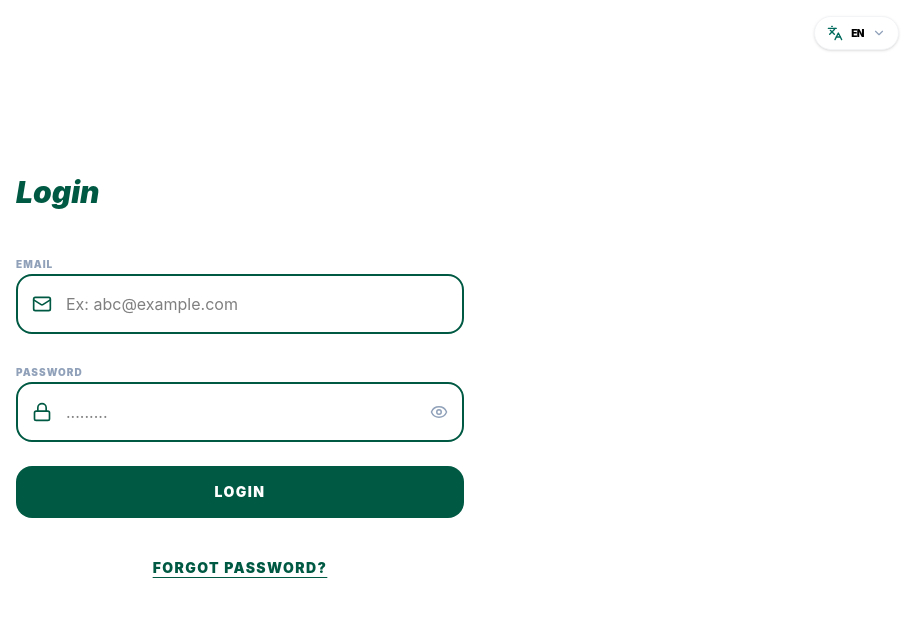
Test case: Login component › shows error message if login fails
This screenshot has width=916, height=630.
Step 1. Type "wrong@example.com" into the field with placeholder "Ex: abc@example.com" → (240, 304), box [16,274,464,334]
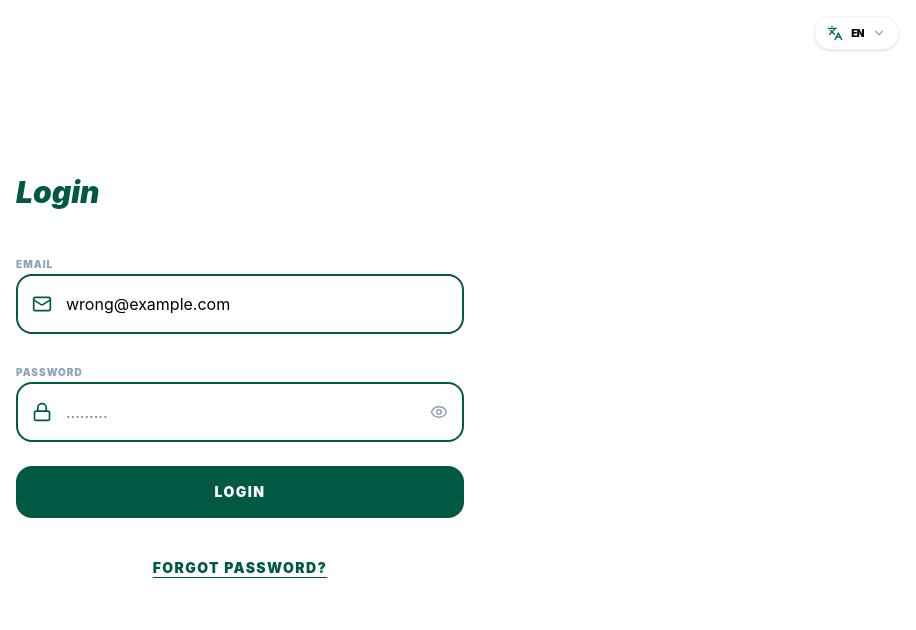
Step 2. Type "wrongpass" into the password field with placeholder "........." → (240, 412), box [16,382,464,442]
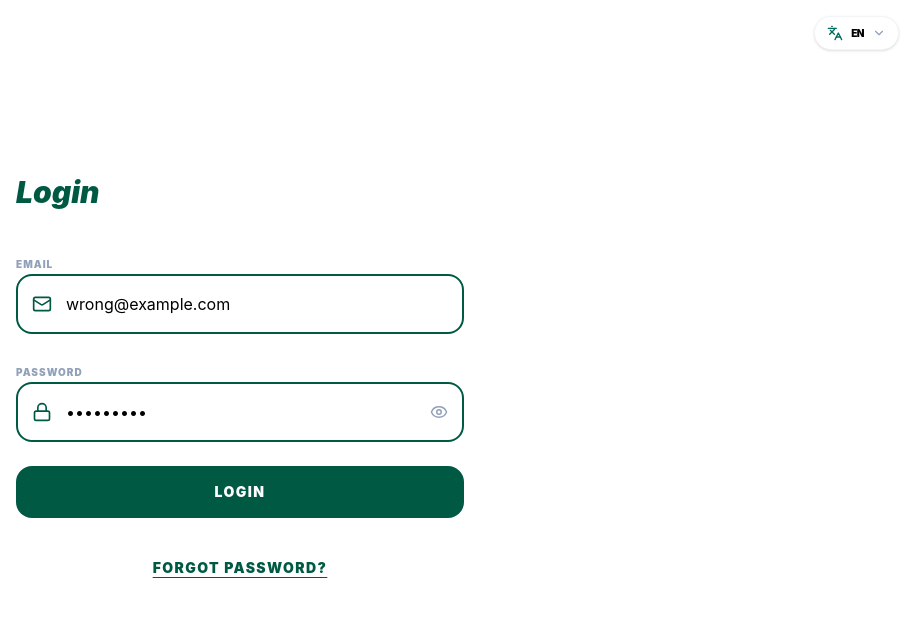
Step 3. Click the button "Login" → click(240, 492), box [16,466,464,518]
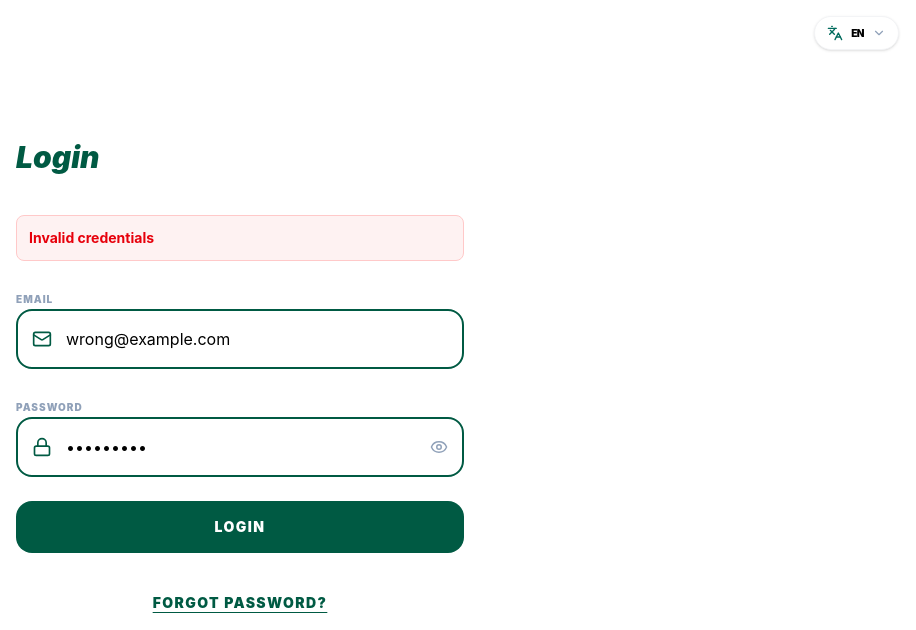
expect the text "Invalid credentials" is shown: met, box [16,215,464,261]
